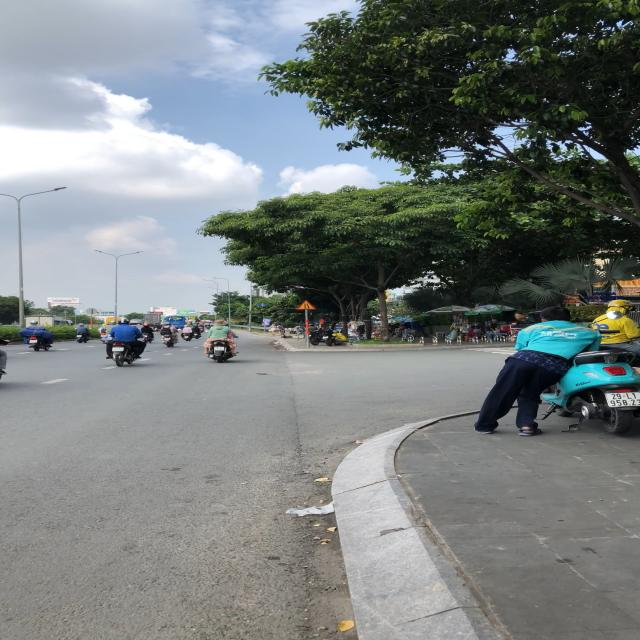Bien bao duong bi thu hep: (296, 300, 318, 310)
